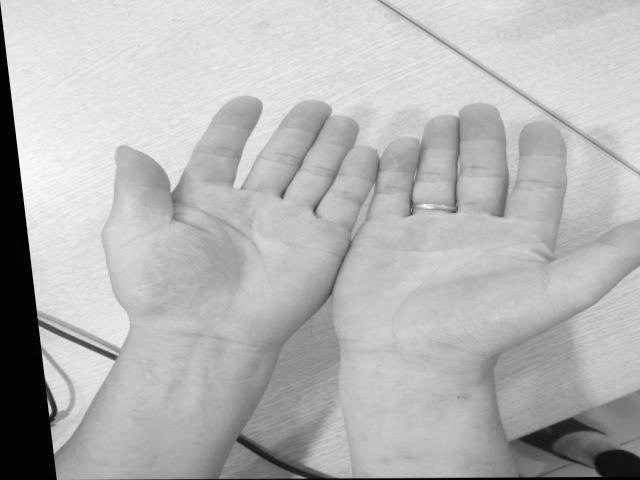not-gloved: (331, 101, 640, 348), (97, 96, 379, 328)
